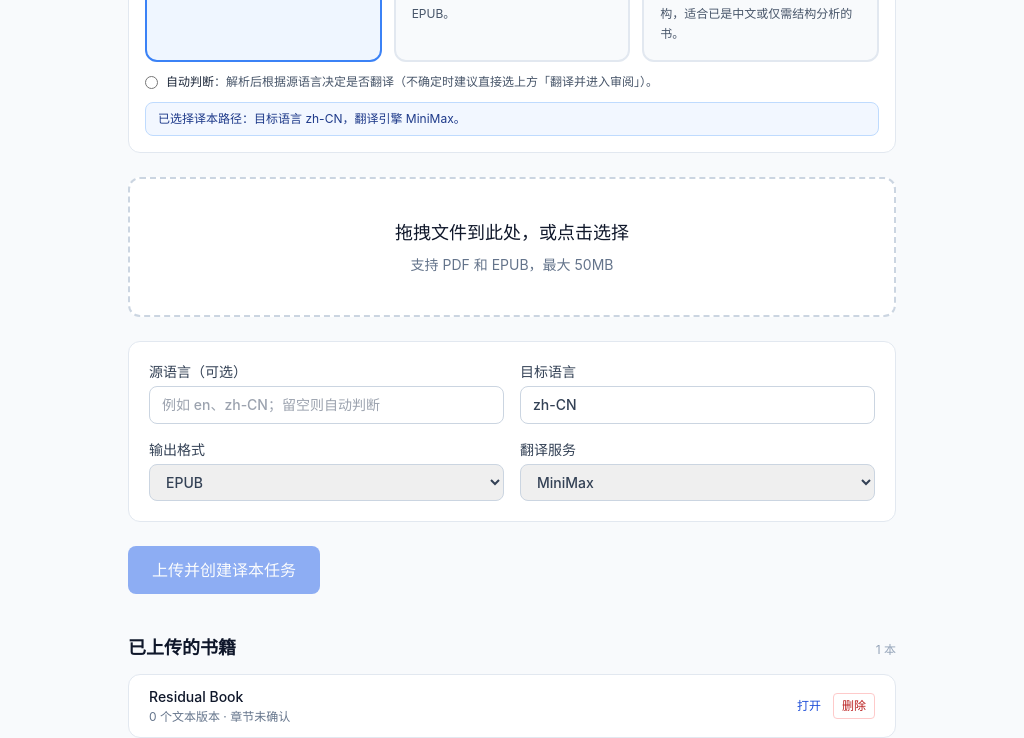
Scenario: Upload › allows removing a residual workspace job from the book processing list
(page scrolled)
Expected: the link "Residual Book" is shown, [149,688,243,705]
Step 1. Click the button "删除" → (854, 706), box [833,693,875,719]
(page scrolled)
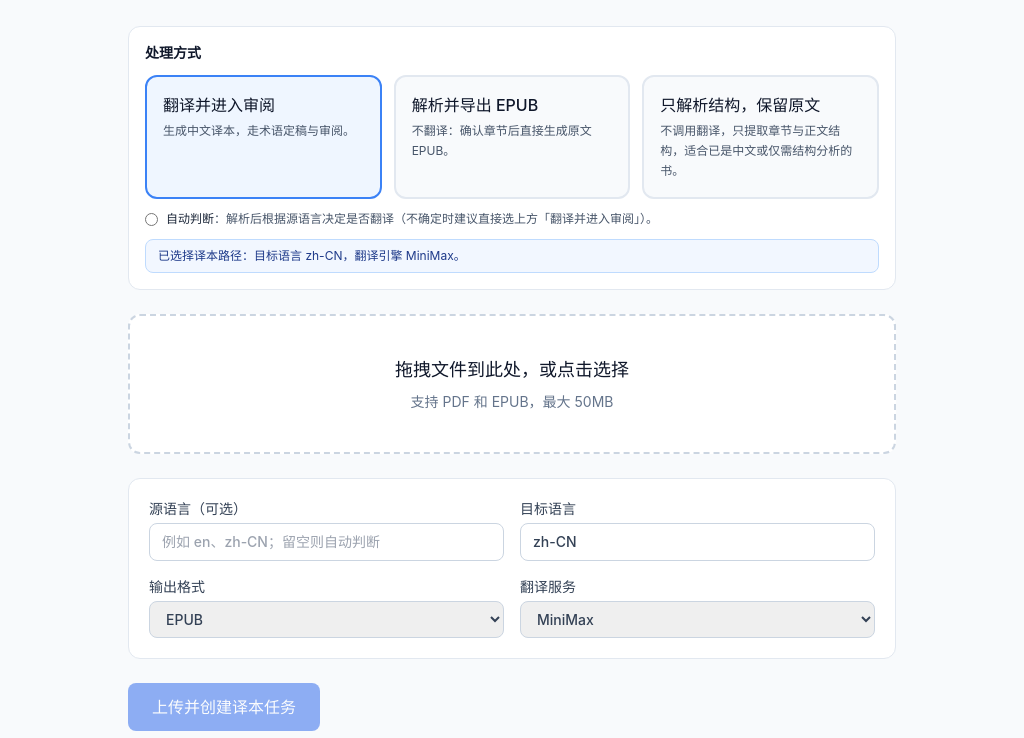
Now the link "Residual Book" is gone
